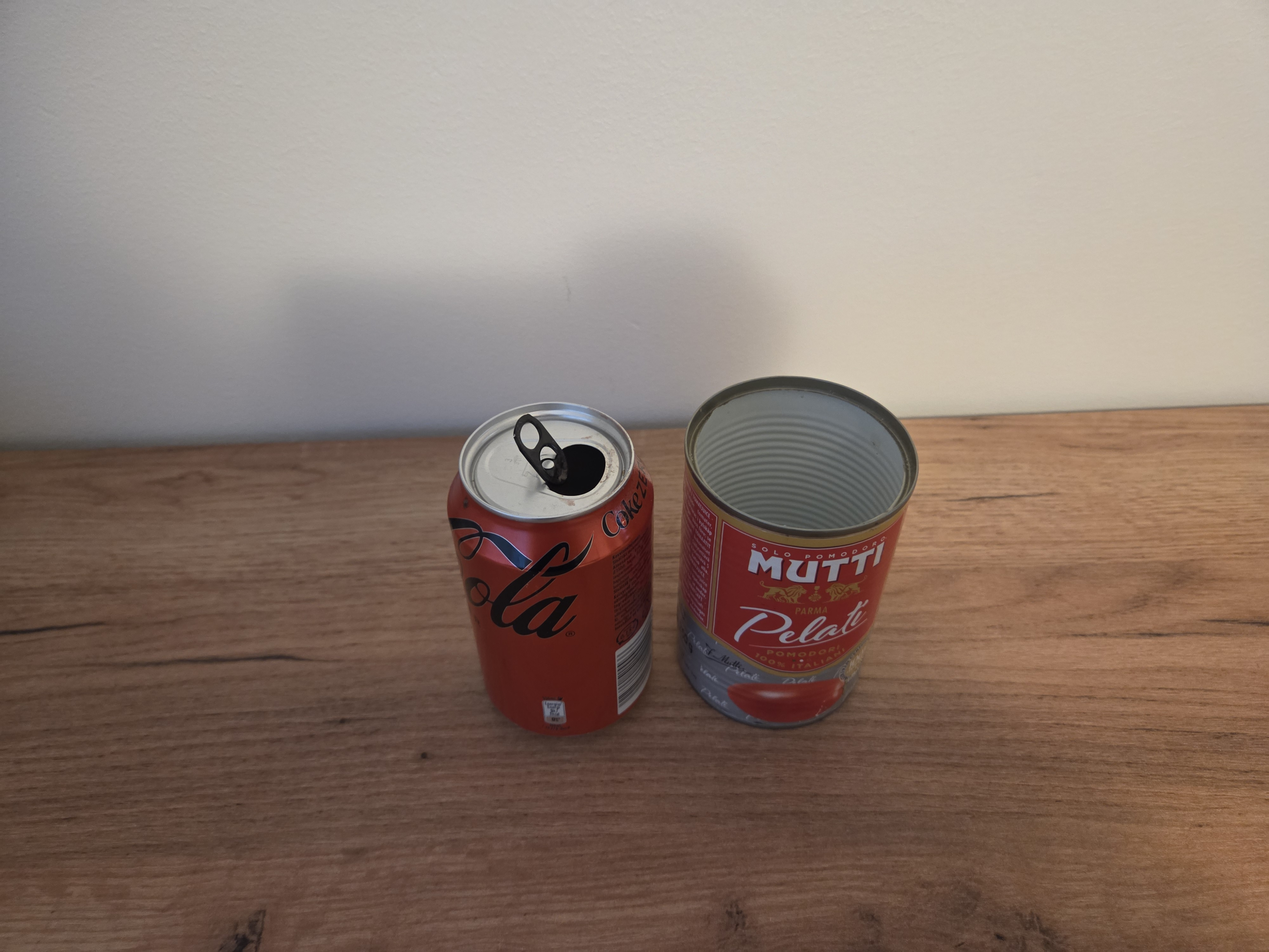Konservburk: (676, 376, 919, 731)
Pantburk: (446, 400, 656, 733)
